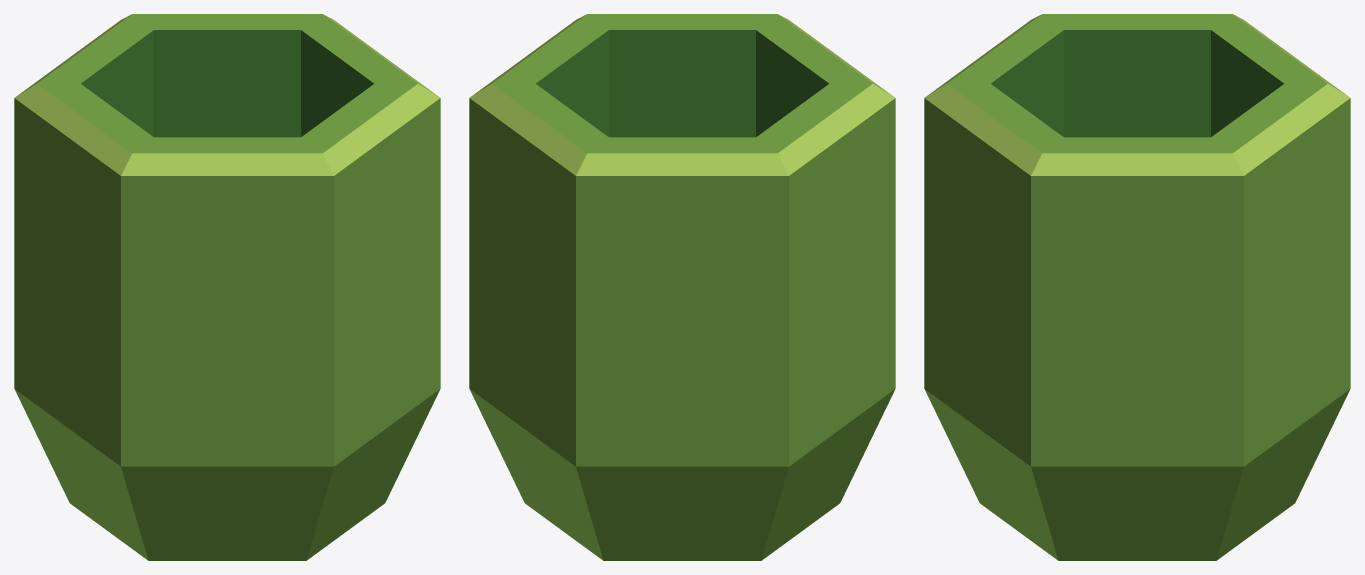
Rendered from Cup.fbx.
3 renders of one model, left to right at view 1: azimuth 30°, elevation 25°; view 2: azimuth 150°, elevation 25°; view 3: azimuth 270°, elevation 25°, orthographic.
Visible parts, largest first — view 1: Cup; view 2: Cup; view 3: Cup.
Boxes of the visible parts, left/top/right/bottom form: Cup: left=14, top=14, right=440, bottom=560; Cup: left=469, top=14, right=895, bottom=560; Cup: left=924, top=14, right=1350, bottom=560.
Bounding box in the file's own units: 8.94 × 11.21 × 10.32.
